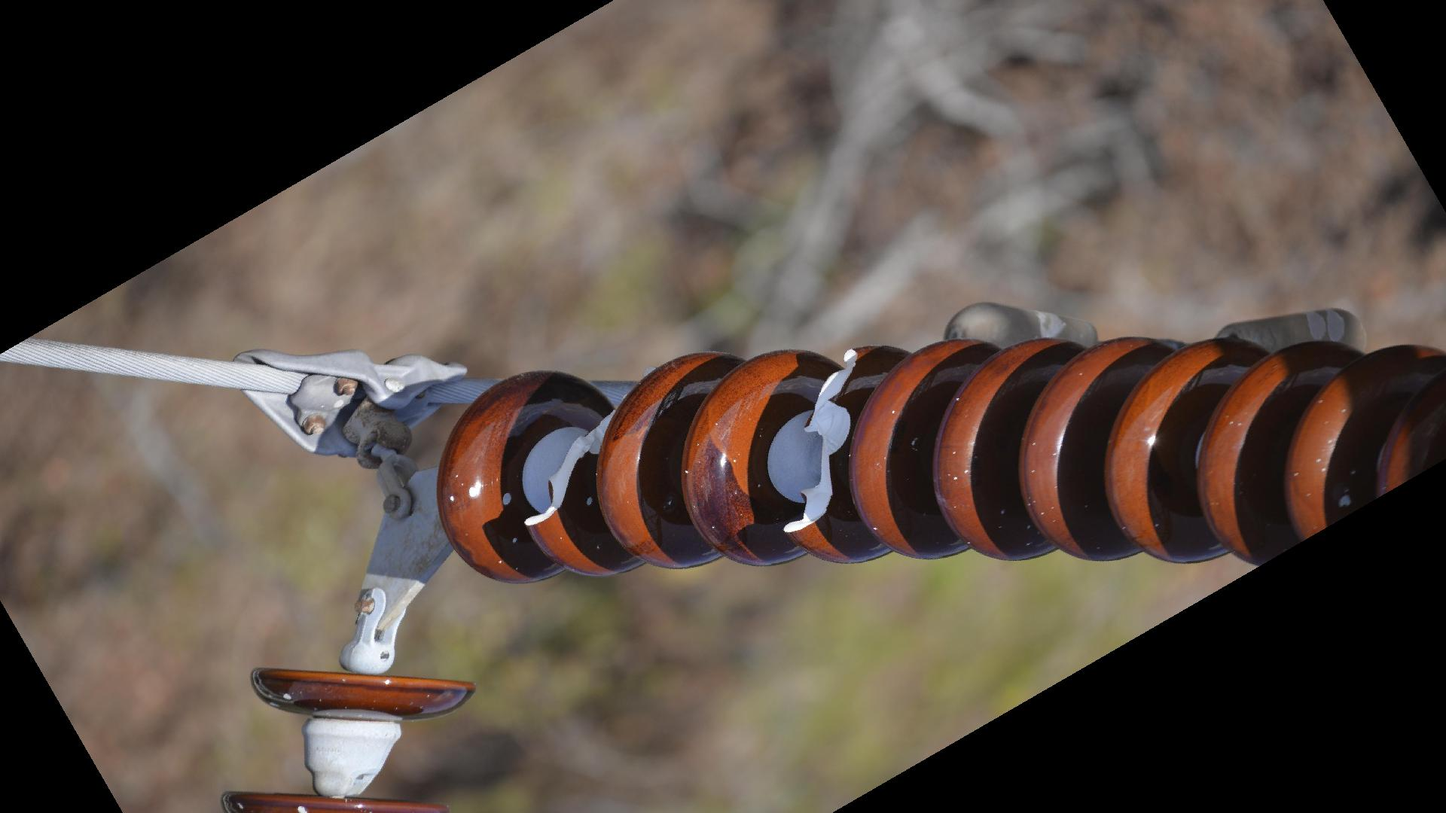insulator: (430, 332, 1446, 590), (215, 659, 484, 813)
insulator_breakage: (773, 342, 868, 543), (514, 405, 620, 537)
